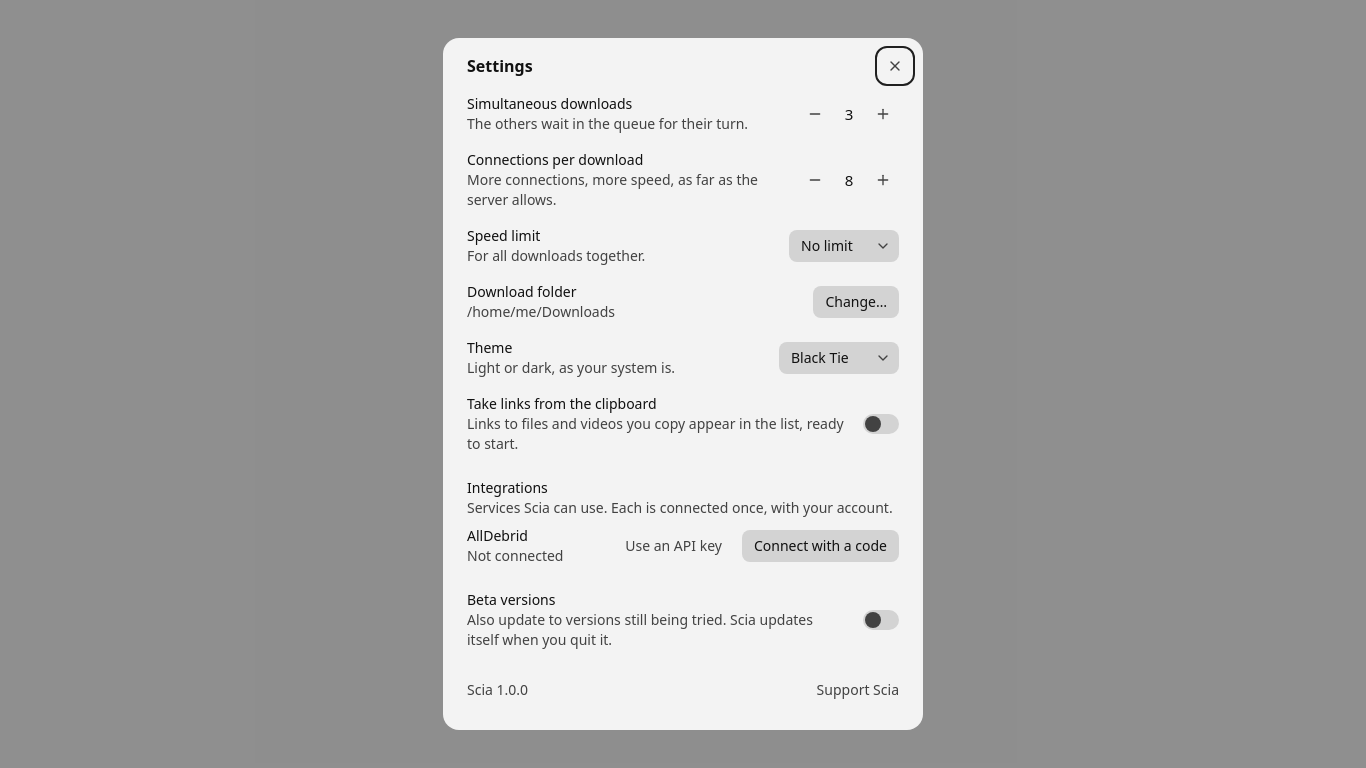
Test case: SettingsDialog › says so, by the folder, when the engine refused the one that was chosen
Click the button "Change…".
click(856, 302)  # box [813, 286, 899, 318]
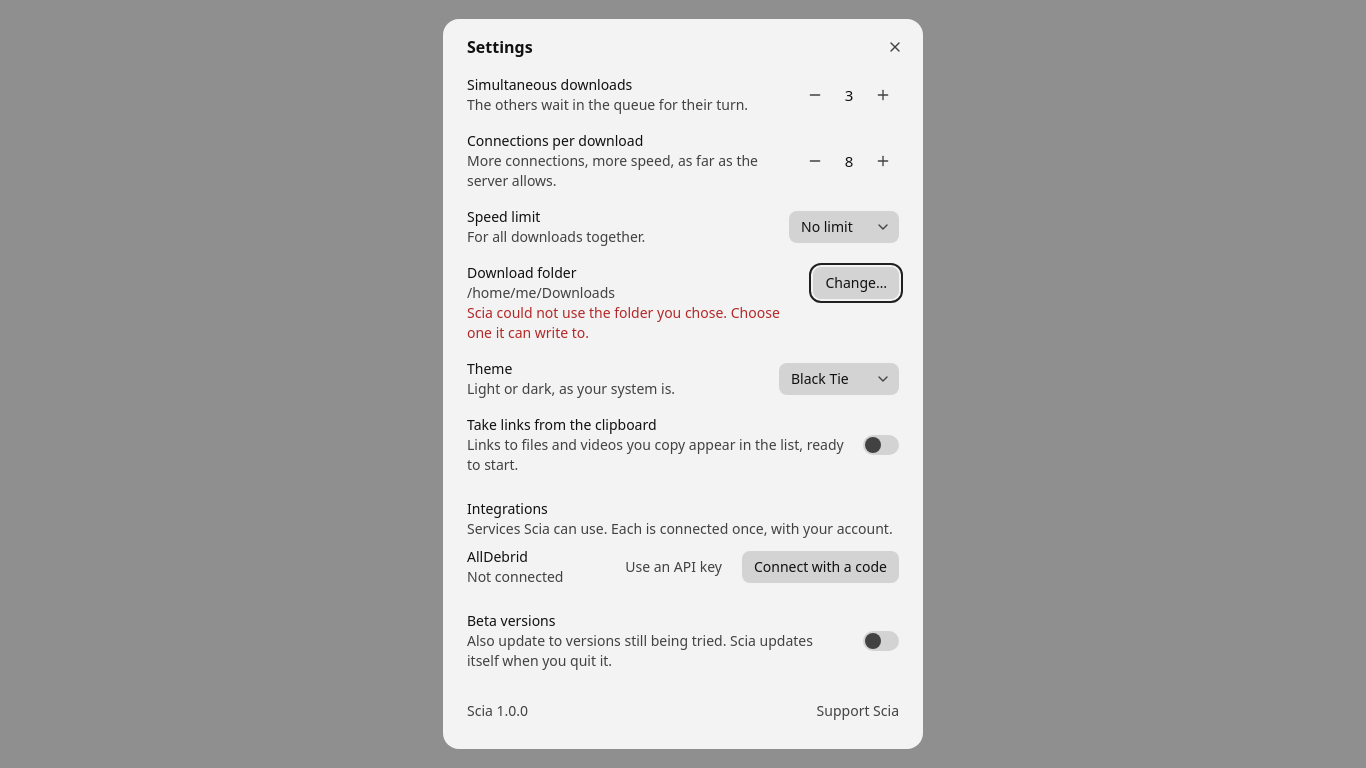
expect the text "/home/me/Downloads" is shown: met, box [467, 283, 615, 302]
expect the message "Scia could not use the folder you chose. Choose one it can write to." is shown: met, box [467, 303, 797, 343]
